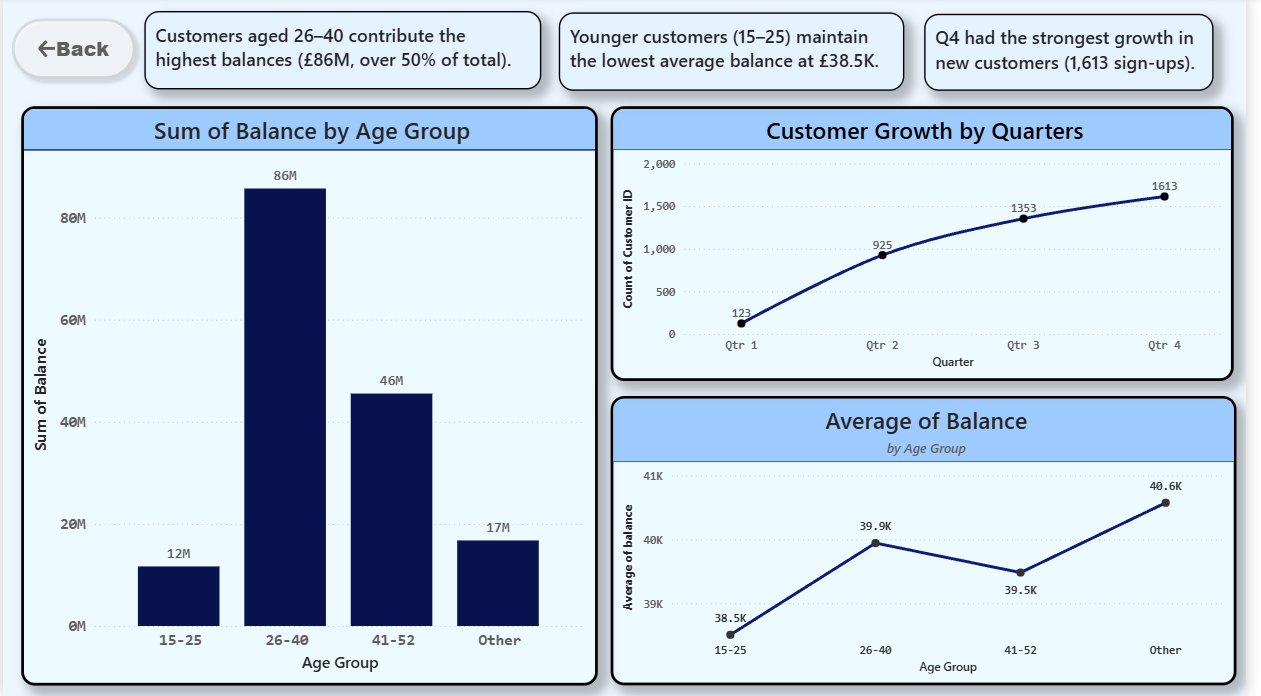

The page's visual inventory and layout, read from the dashboard file:
{"tool":"powerbi","page":{"name":"Page 2","canvas":[1280,720],"ordinal":1},"visuals":[{"type":"lineChart","fields":{"Category":["P6-UK-Bank-Customers (1).Age Group"],"Y":["Avg(P6-UK-Bank-Customers (1).Balance)"]},"box":[625.9,411.2,644.3,298.1],"z":0},{"type":"lineChart","title":"Customer Growth by Quarters","fields":{"Category":["P6-UK-Bank-Customers (1).Date Joined.Variation.Date Hierarchy.Quarter"],"Y":["CountNonNull(P6-UK-Bank-Customers (1).Customer ID)"]},"box":[625.9,113,641.5,282.6],"z":1000},{"type":"columnChart","fields":{"Category":["P6-UK-Bank-Customers (1).Age Group"],"Y":["Sum(P6-UK-Bank-Customers (1).Balance)"]},"box":[18.4,113,593.4,596.2],"z":2000},{"type":"actionButton","box":[0,12.7,145.5,80.5],"z":3000},{"type":"textbox","box":[145.5,14.1,408.3,80.5],"z":4000},{"type":"textbox","box":[572.2,15.5,356,80.5],"z":5000},{"type":"textbox","box":[948,17,298.1,79.1],"z":6000}]}

Visuals, with their boxes in screenshot pixels (x1, y1, x2, y2), scaled from the page's 1280x720 canvas onto the 1261x696 screenshot:
lineChart - P6-UK-Bank-Customers (1).Age Group x Avg(P6-UK-Bank-Customers (1).Balance): <region>617, 397, 1251, 686</region>
"Customer Growth by Quarters" lineChart: <region>617, 109, 1249, 382</region>
columnChart - P6-UK-Bank-Customers (1).Age Group x Sum(P6-UK-Bank-Customers (1).Balance): <region>18, 109, 603, 686</region>
actionButton: <region>0, 12, 143, 90</region>
textbox: <region>143, 14, 546, 91</region>
textbox: <region>564, 15, 914, 93</region>
textbox: <region>934, 16, 1228, 93</region>
